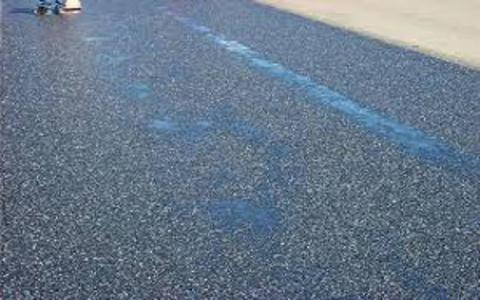Proper road: (24, 37, 409, 251)
